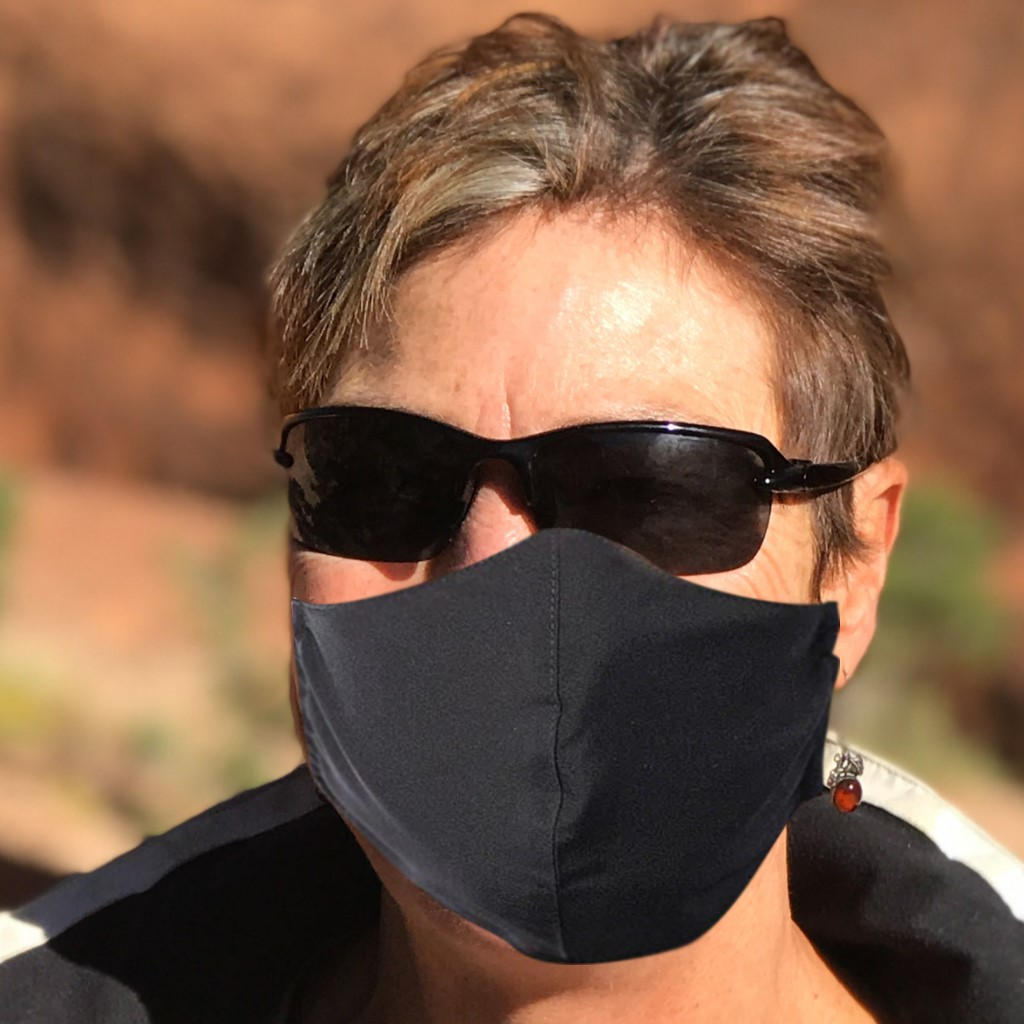con_mascara: (276, 223, 840, 906)
